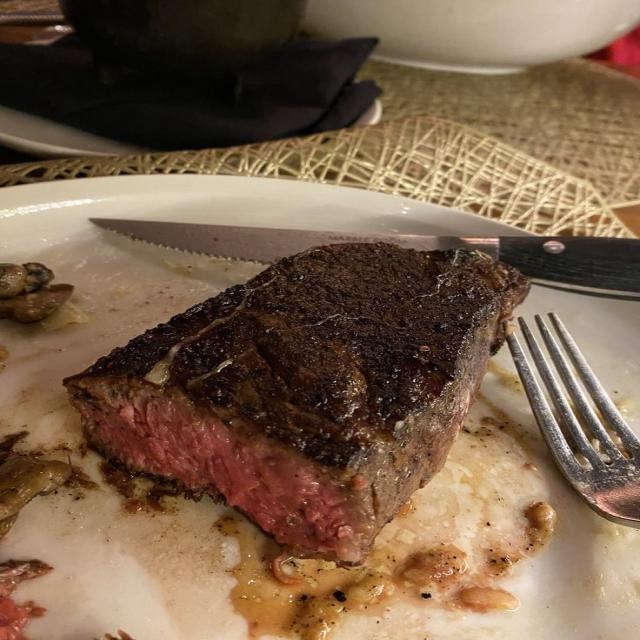beef steak: (64, 243, 528, 566)
